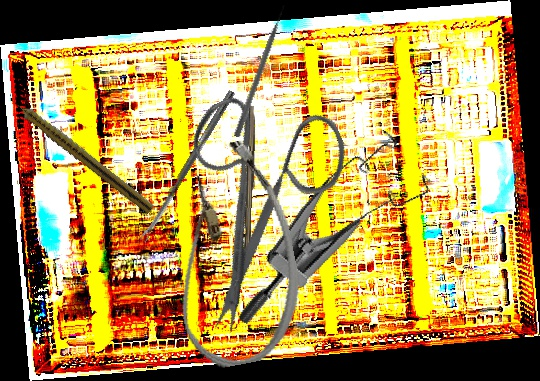Cannula: (152, 134, 313, 374)
Handpiece: (5, 91, 157, 215)
Iris Scissors: (132, 62, 397, 340)
Pusher: (233, 3, 289, 139)
Scalpel Handle: (243, 105, 258, 254)
Speculum: (234, 108, 445, 371)
Surgical Spoon: (138, 89, 236, 243)
